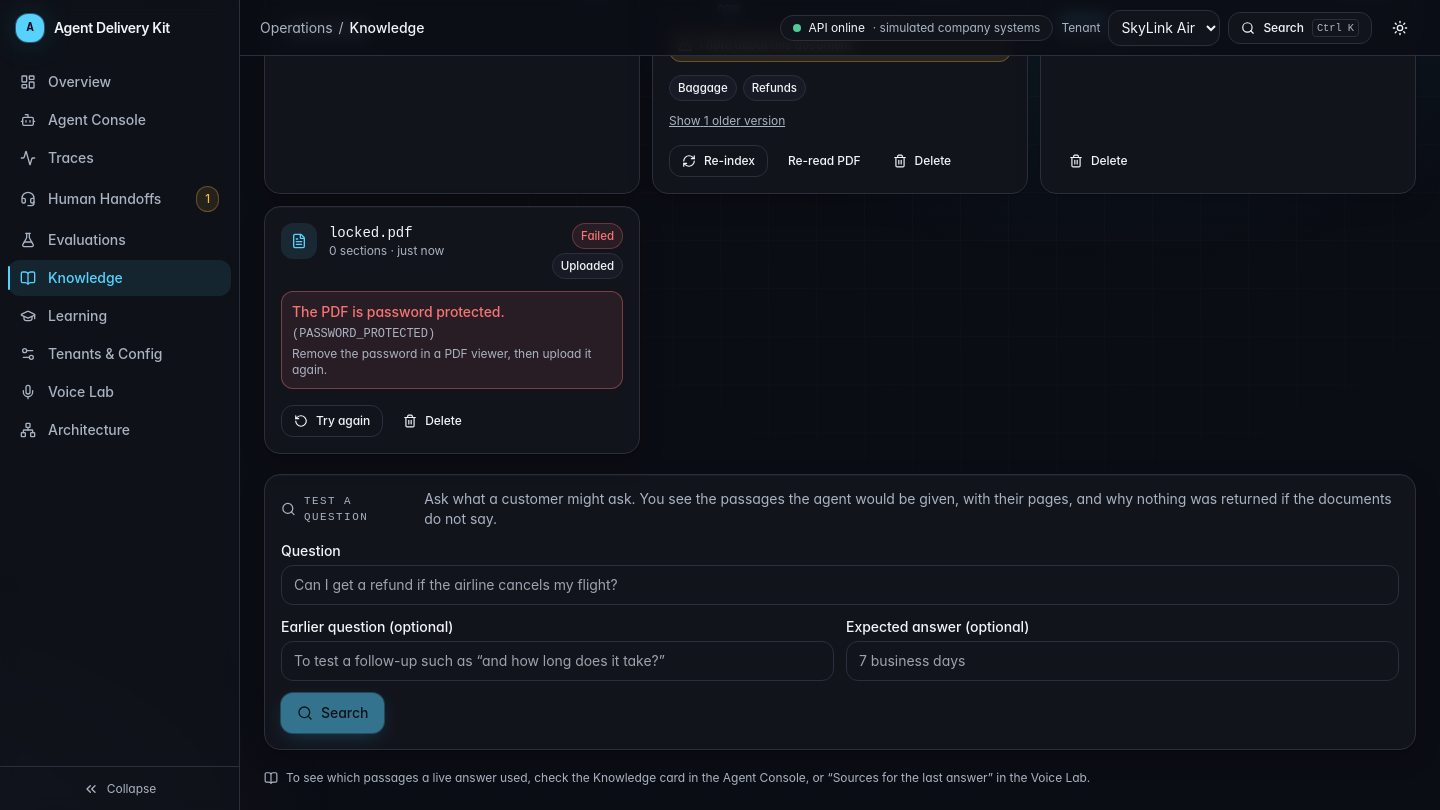
Knowledge page › explains an abstention and shows the closest rejected passage
(page scrolled)
Type "Do you fly to Mars?" into the field labelled "Question" at (840, 585), box [281,565,1399,605]
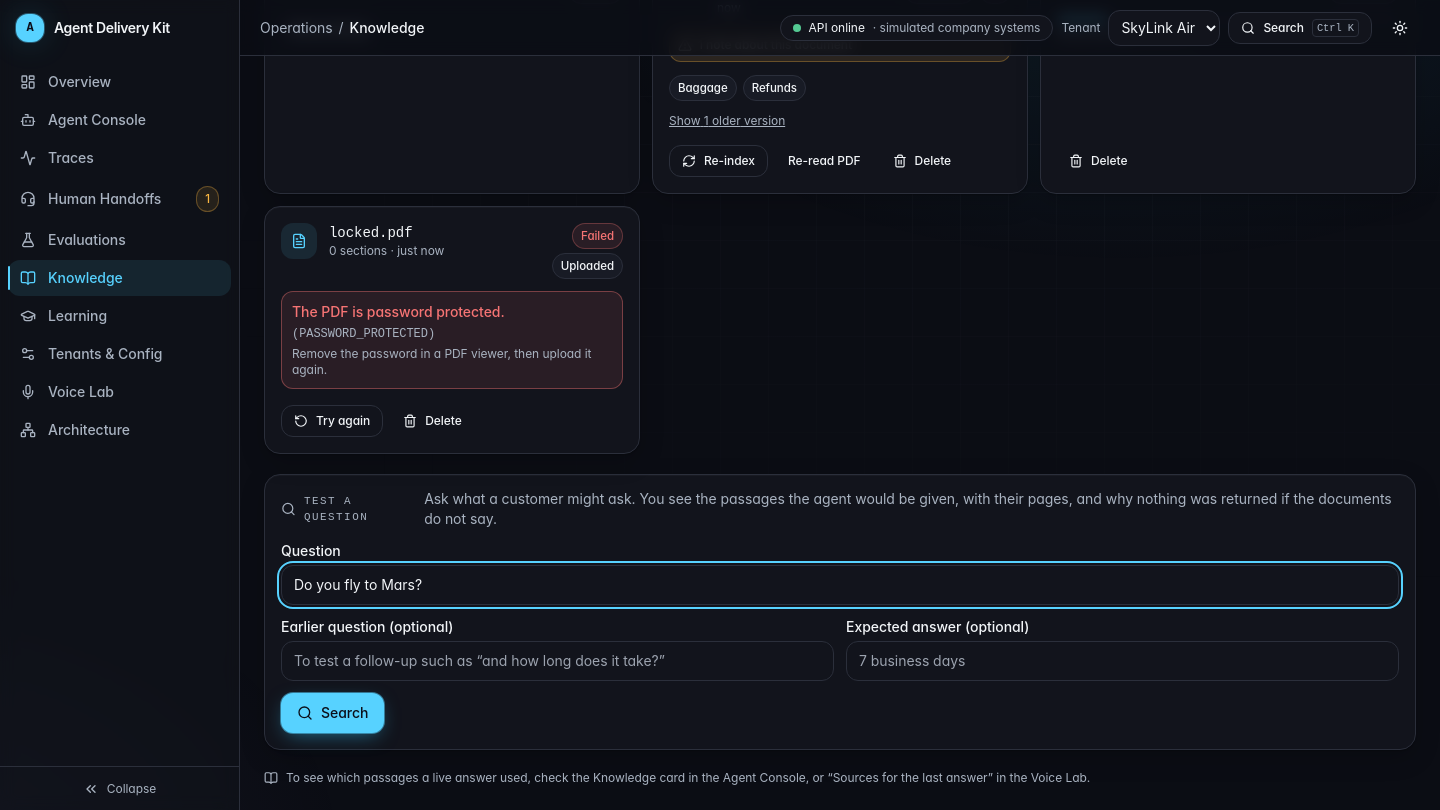
Click the button "Search" at (333, 713), box [281,693,384,733]
(page scrolled)
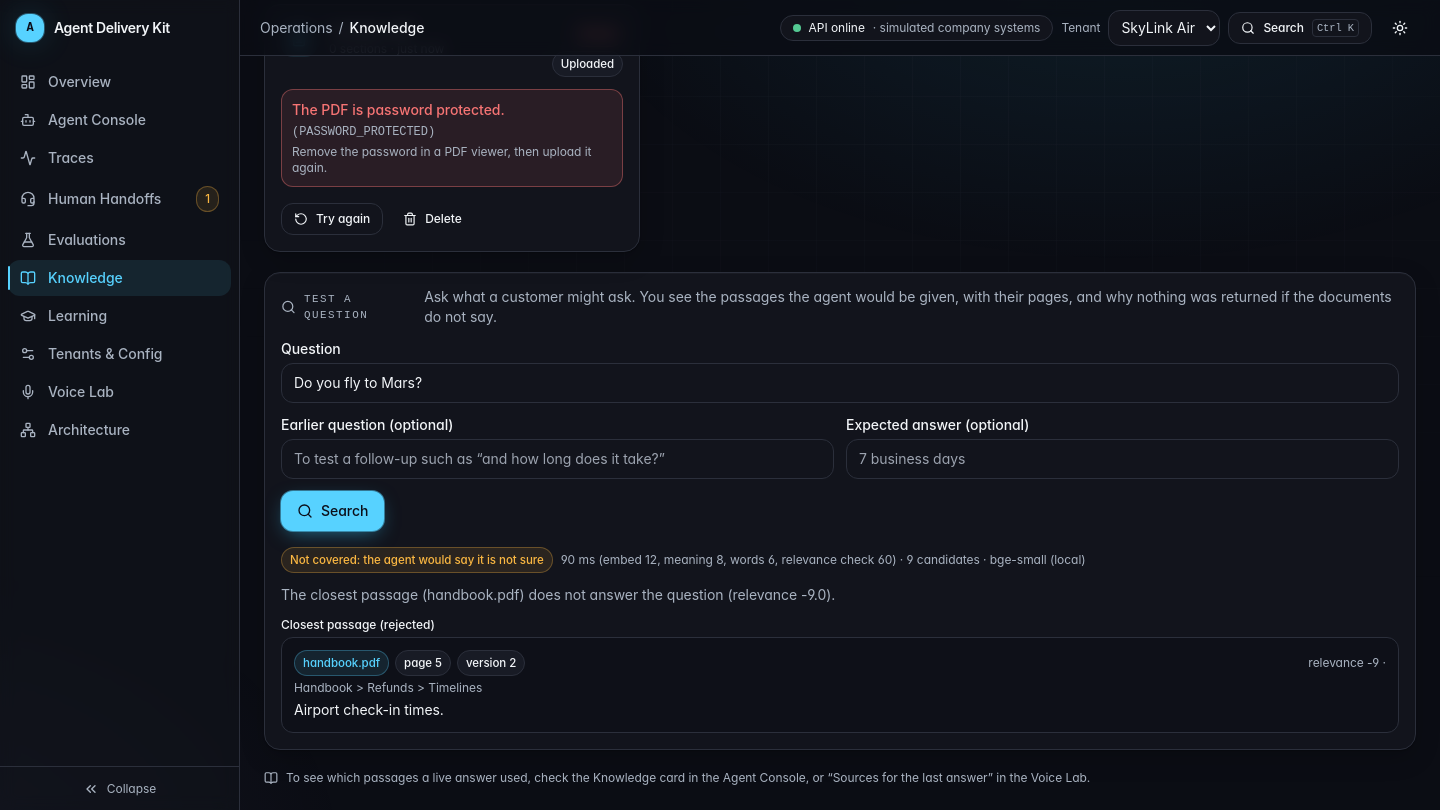
Expected: the text "Not covered: the agent would say it is not sure" is shown, [281,547,553,573]
Expected: the text "does not answer the question" is shown, [281,586,835,603]
Expected: the text "Closest passage (rejected)" is shown, [281,617,435,632]
